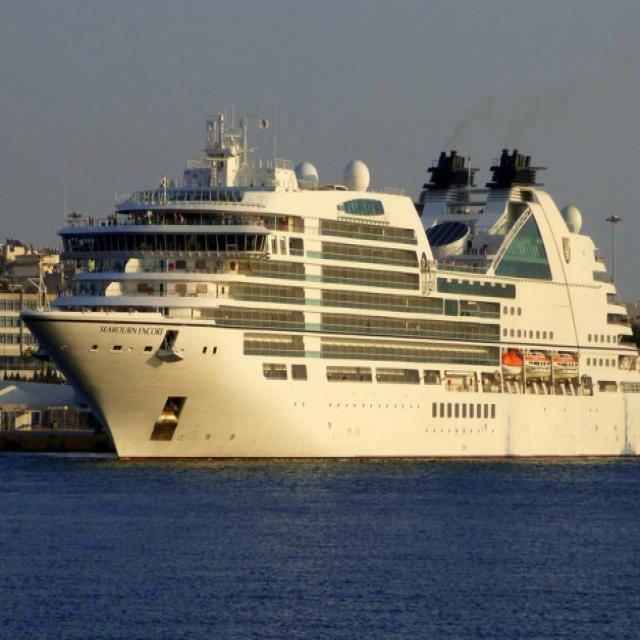cruises: (13, 108, 640, 473)
